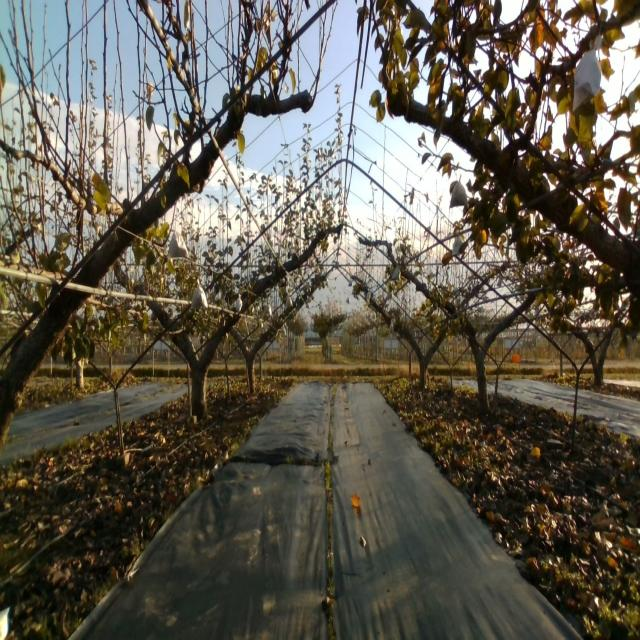pearbags: (573, 34, 604, 117), (449, 173, 468, 209), (169, 229, 189, 261), (190, 278, 208, 311), (452, 236, 463, 256)
